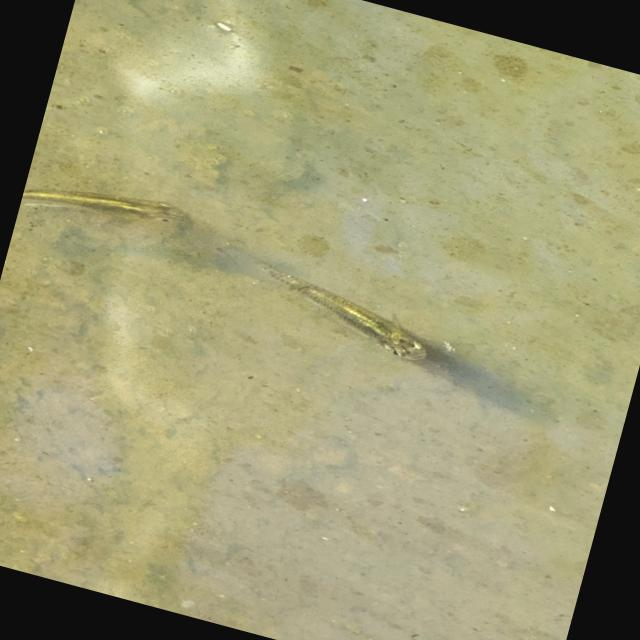Sivrisinek Baligi: (214, 234, 451, 378), (22, 162, 184, 234)
